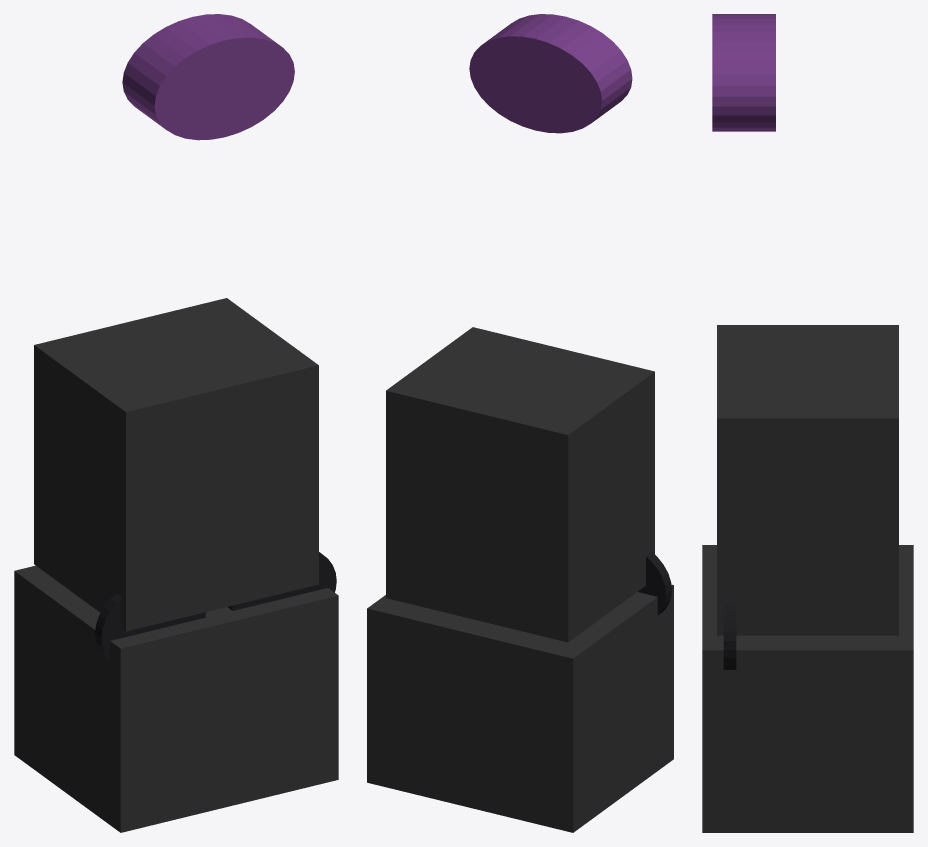
Rendered from FunktionOne_SoundStack.fbx.
3 renders of one model, left to right at view 1: azimuth 30°, elevation 25°; view 2: azimuth 150°, elevation 25°; view 3: azimuth 270°, elevation 25°, orthographic. The views are drawn at different scales.
Visible parts, largest first — view 1: FunktionOne_Res5_Top, FunktionOne_F221_Sub, Res5_Axehead_Horn, F221_DriverCone_0, F221_DriverCone_1; view 2: FunktionOne_Res5_Top, FunktionOne_F221_Sub, Res5_Axehead_Horn, F221_DriverCone_0; view 3: FunktionOne_Res5_Top, FunktionOne_F221_Sub, Res5_Axehead_Horn, F221_DriverCone_1.
Boxes of the visible parts, x1,y1,x2,y2 form: FunktionOne_Res5_Top: [34, 298, 318, 631]; FunktionOne_F221_Sub: [14, 565, 338, 832]; Res5_Axehead_Horn: [122, 14, 294, 140]; F221_DriverCone_0: [95, 593, 205, 660]; F221_DriverCone_1: [227, 552, 336, 610]; FunktionOne_Res5_Top: [386, 327, 654, 642]; FunktionOne_F221_Sub: [367, 584, 673, 832]; Res5_Axehead_Horn: [469, 14, 632, 133]; F221_DriverCone_0: [637, 552, 671, 615]; FunktionOne_Res5_Top: [717, 325, 898, 635]; FunktionOne_F221_Sub: [702, 545, 913, 832]; Res5_Axehead_Horn: [712, 14, 775, 131]; F221_DriverCone_1: [723, 604, 736, 669].
Bounding box in the file's own units: 1.4 × 4.34 × 1.1.
